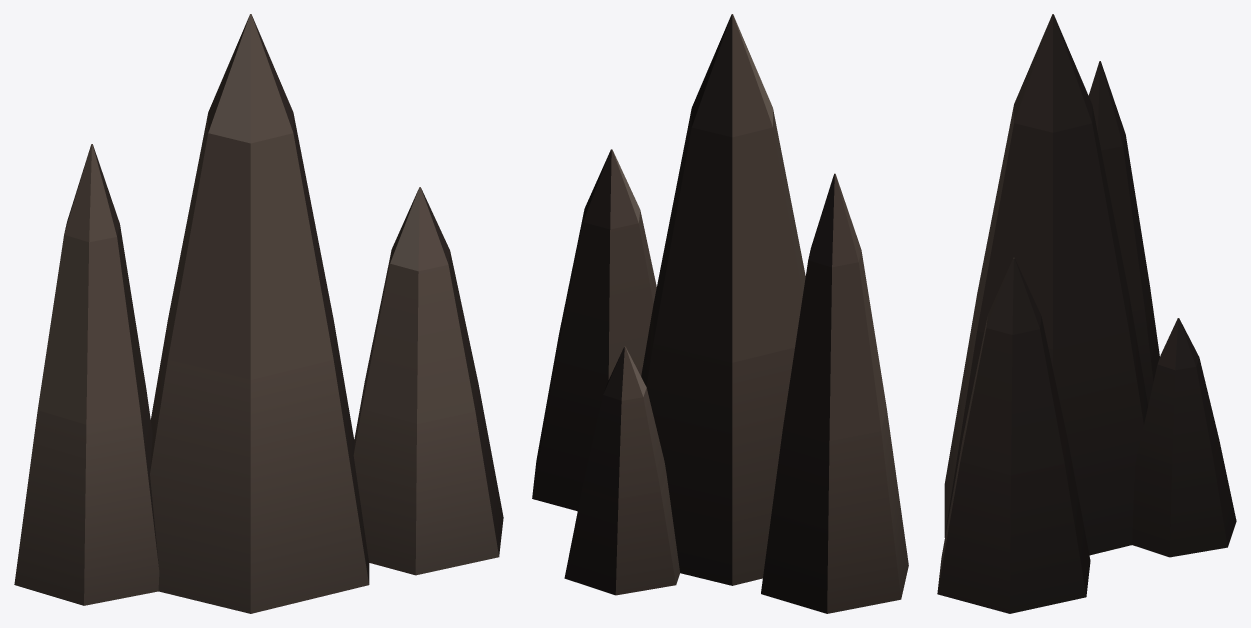
File: stalagmite_b.glb
The picture shows the model from 3 angles, left to right: view 1: azimuth 30°, elevation 25°; view 2: azimuth 150°, elevation 25°; view 3: azimuth 270°, elevation 25°; orthographic projection. The views are drawn at different scales.
Visible parts, largest first — view 1: stalagmite_b; view 2: stalagmite_b; view 3: stalagmite_b.
Boxes of the visible parts, box(x1,y1,x2,y2) form: stalagmite_b: box(14, 14, 503, 613); stalagmite_b: box(532, 14, 908, 613); stalagmite_b: box(937, 14, 1236, 613).
Bounding box in the file's own units: 0.5894 × 0.7 × 0.382.
